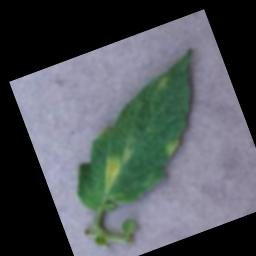Leaf_Mold: (92, 143, 144, 194), (160, 136, 183, 157), (152, 75, 171, 92)
